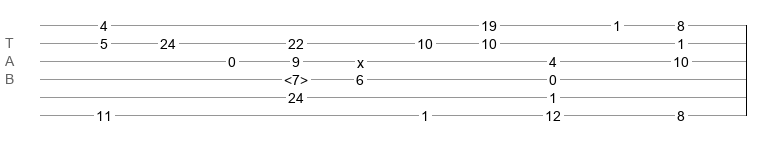0: (228, 54, 236, 64), (549, 72, 557, 82)
1: (421, 108, 429, 118), (549, 90, 557, 100), (613, 18, 621, 28), (677, 36, 685, 46)
10: (417, 36, 433, 46), (481, 36, 497, 46), (673, 54, 689, 64)
11: (96, 108, 112, 118)
12: (545, 108, 561, 118)
19: (481, 18, 497, 28)
22: (288, 36, 304, 46)
24: (160, 36, 176, 46), (288, 90, 304, 100)
4: (100, 18, 108, 28), (549, 54, 557, 64)
5: (100, 36, 108, 46)
6: (356, 72, 364, 82)
8: (677, 18, 685, 28), (677, 108, 685, 118)
9: (292, 54, 300, 64)
harmonic: (284, 72, 308, 82)
x: (357, 55, 364, 63)
